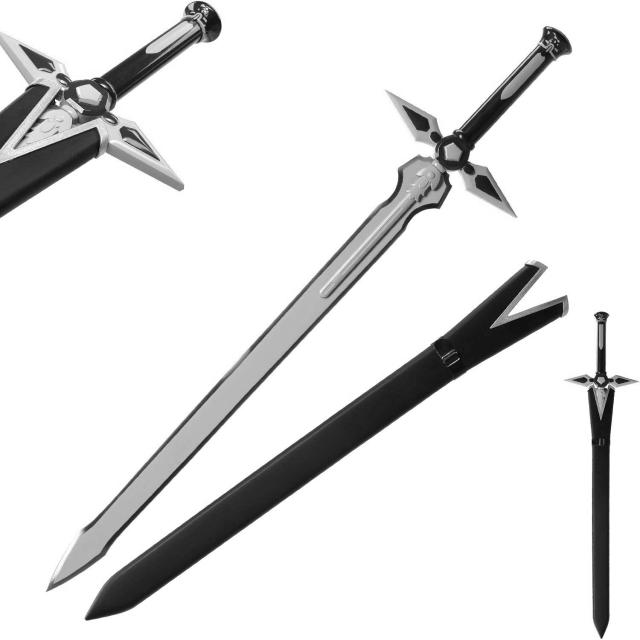Knife: (58, 22, 573, 626), (572, 304, 630, 621)
